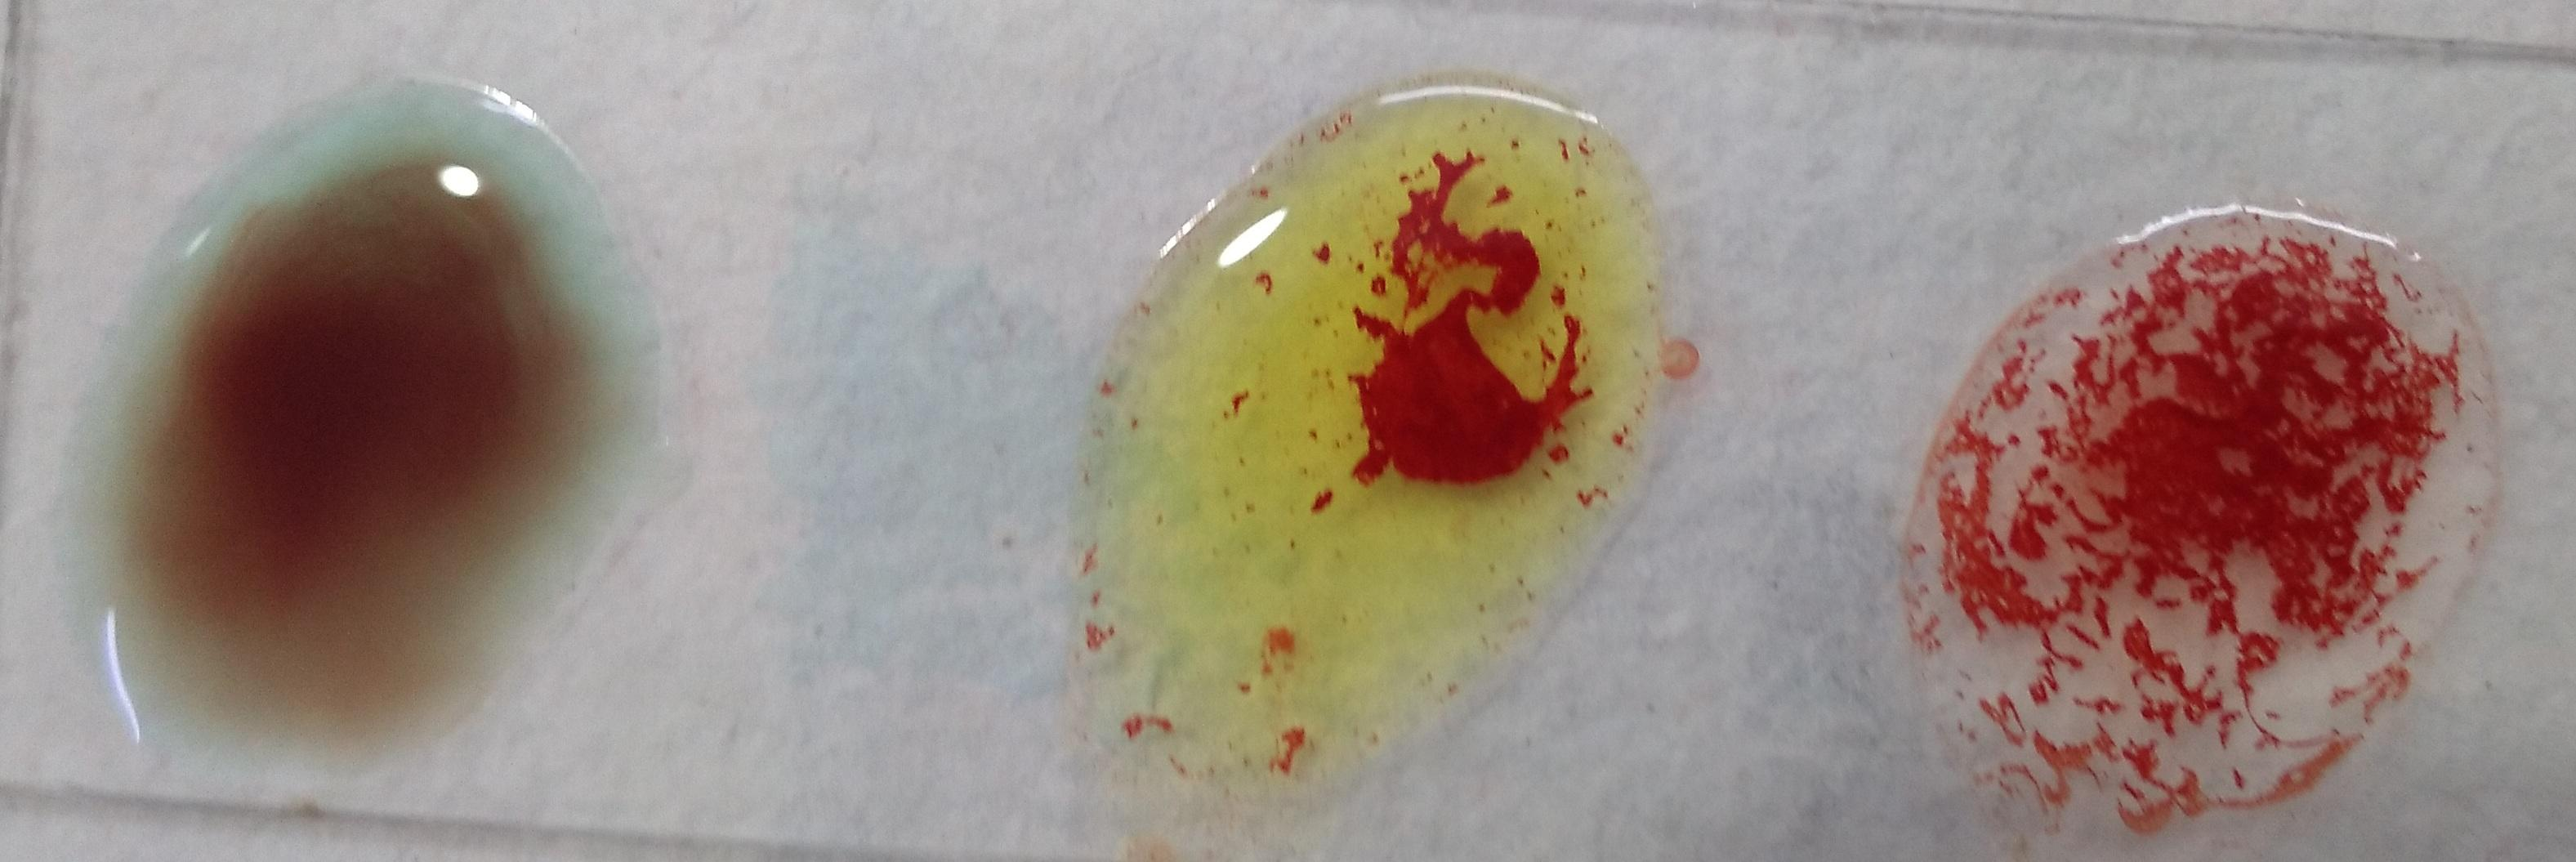B: (1094, 74, 1656, 814)
D: (1925, 202, 2492, 844)
